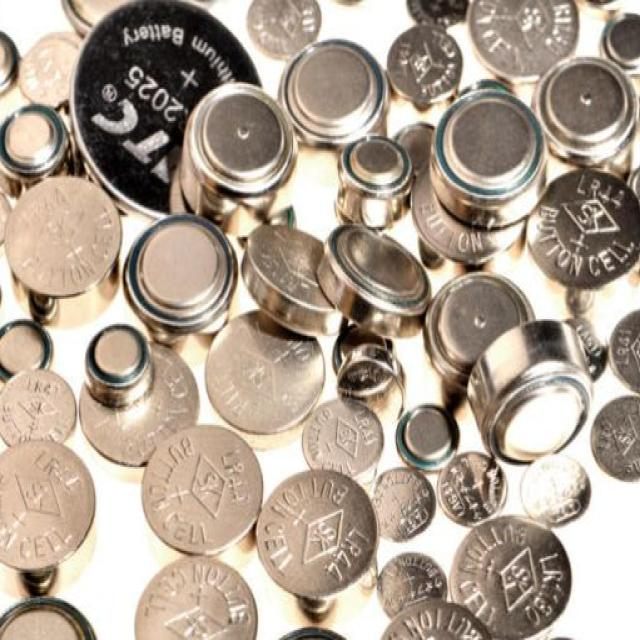electronic: (419, 47, 558, 246), (165, 89, 302, 243), (319, 206, 438, 373), (124, 200, 235, 343), (417, 260, 537, 392), (236, 214, 360, 338), (276, 31, 398, 152), (83, 322, 164, 415)
